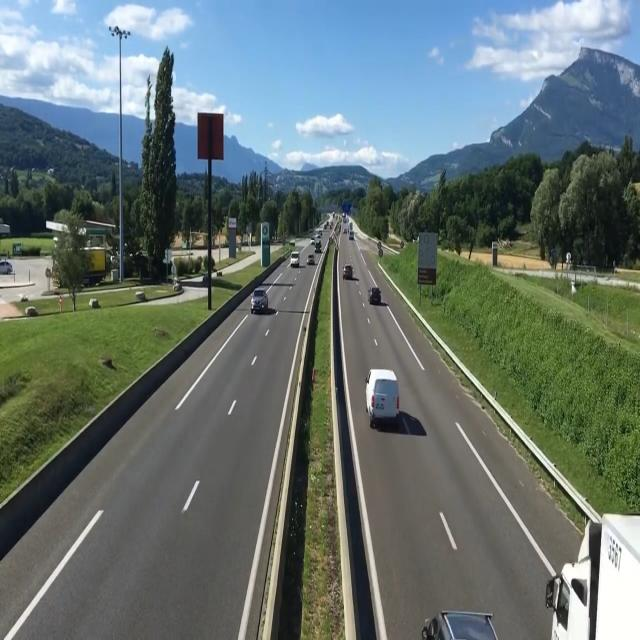car: (415, 603, 514, 640), (366, 365, 403, 434), (248, 281, 277, 314), (368, 282, 384, 307), (344, 258, 356, 284), (287, 251, 302, 269)
truck: (542, 507, 640, 640)
